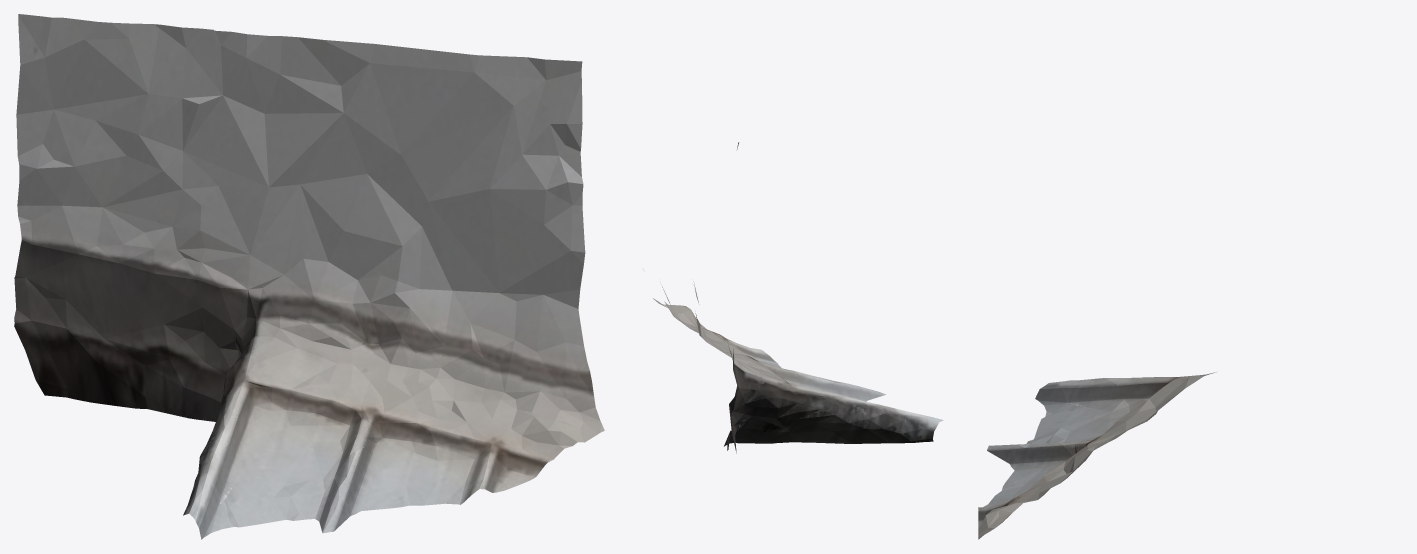
The picture shows the model from 3 angles, left to right: view 1: azimuth 30°, elevation 25°; view 2: azimuth 150°, elevation 25°; view 3: azimuth 270°, elevation 25°; orthographic projection. The views are drawn at different scales.
Size of the model in its own units: 0.8374 by 0.8374 by 0.8373.
Materials: 3 (3 with a texture image).
